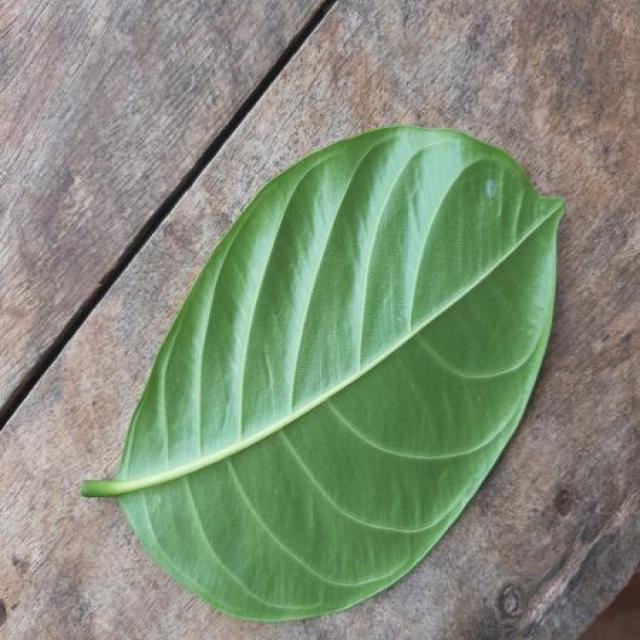Jackfruit: (82, 125, 563, 621)
